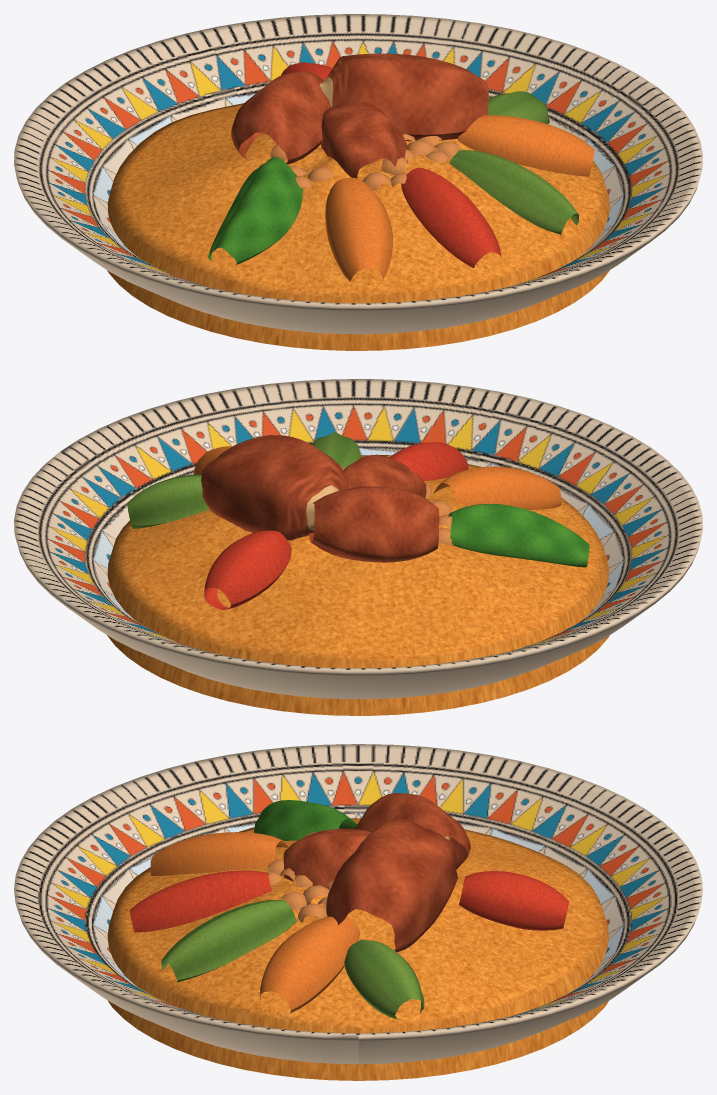
The model's file is Couscous_Plat_090pct.obj.
3 views of the same model, one above another, from view 1: azimuth 30°, elevation 25°; view 2: azimuth 150°, elevation 25°; view 3: azimuth 270°, elevation 25° (orthographic).
Parts seen in each view (by area): view 1: 00_Plate_Tebsi_Ceramic, 01_Couscous_Semolina_Mound, 02_Meat_Lamb_Shank_Main, 03_Meat_Braised_Left, 06_Veg_Green_Pepper_Felfel, 10_Veg_Carrot_Right, 07_Veg_Carrot_FrontLeft, 08_Veg_Pumpkin_Red_Front, 09_Veg_Zucchini_FrontRight, 04_Meat_Braised_Front, 05_Chickpeas_Cluster, 11_Veg_Zucchini_FarRight; view 2: 00_Plate_Tebsi_Ceramic, 01_Couscous_Semolina_Mound, 02_Meat_Lamb_Shank_Main, 03_Meat_Braised_Left, 06_Veg_Green_Pepper_Felfel, 12_Veg_Carrot_TopRight, 07_Veg_Carrot_FrontLeft, 11_Veg_Zucchini_FarRight, 04_Meat_Braised_Front, 08_Veg_Pumpkin_Red_Front, 09_Veg_Zucchini_FrontRight, 05_Chickpeas_Cluster; view 3: 00_Plate_Tebsi_Ceramic, 01_Couscous_Semolina_Mound, 02_Meat_Lamb_Shank_Main, 09_Veg_Zucchini_FrontRight, 10_Veg_Carrot_Right, 08_Veg_Pumpkin_Red_Front, 12_Veg_Carrot_TopRight, 07_Veg_Carrot_FrontLeft, 11_Veg_Zucchini_FarRight, 04_Meat_Braised_Front, 03_Meat_Braised_Left, 06_Veg_Green_Pepper_Felfel (+1 smaller).
Boxes of the visible parts, x1,y1,x2,y2 form: 00_Plate_Tebsi_Ceramic: (14, 14, 702, 334); 01_Couscous_Semolina_Mound: (107, 103, 609, 350); 02_Meat_Lamb_Shank_Main: (319, 53, 488, 141); 03_Meat_Braised_Left: (231, 71, 330, 164); 06_Veg_Green_Pepper_Felfel: (208, 157, 302, 264); 10_Veg_Carrot_Right: (457, 115, 594, 176); 07_Veg_Carrot_FrontLeft: (325, 177, 393, 282); 08_Veg_Pumpkin_Red_Front: (401, 167, 501, 268); 09_Veg_Zucchini_FrontRight: (449, 150, 579, 234); 04_Meat_Braised_Front: (320, 99, 408, 178); 05_Chickpeas_Cluster: (259, 134, 461, 190); 11_Veg_Zucchini_FarRight: (488, 91, 549, 124); 00_Plate_Tebsi_Ceramic: (14, 379, 702, 699); 01_Couscous_Semolina_Mound: (107, 455, 609, 715); 02_Meat_Lamb_Shank_Main: (201, 435, 349, 540); 03_Meat_Braised_Left: (309, 486, 439, 562); 06_Veg_Green_Pepper_Felfel: (448, 504, 589, 567); 12_Veg_Carrot_TopRight: (204, 530, 291, 609); 07_Veg_Carrot_FrontLeft: (433, 466, 561, 509); 11_Veg_Zucchini_FarRight: (127, 474, 209, 528); 04_Meat_Braised_Front: (343, 454, 426, 497); 08_Veg_Pumpkin_Red_Front: (390, 442, 468, 481); 09_Veg_Zucchini_FrontRight: (311, 432, 361, 468); 05_Chickpeas_Cluster: (342, 469, 453, 545); 00_Plate_Tebsi_Ceramic: (14, 744, 702, 1064); 01_Couscous_Semolina_Mound: (107, 818, 608, 1080); 02_Meat_Lamb_Shank_Main: (326, 817, 457, 952); 09_Veg_Zucchini_FrontRight: (161, 899, 296, 982); 10_Veg_Carrot_Right: (259, 916, 360, 1013); 08_Veg_Pumpkin_Red_Front: (129, 870, 271, 932); 12_Veg_Carrot_TopRight: (459, 871, 569, 930); 07_Veg_Carrot_FrontLeft: (150, 832, 288, 875); 11_Veg_Zucchini_FarRight: (344, 939, 424, 1020); 04_Meat_Braised_Front: (283, 828, 371, 888); 03_Meat_Braised_Left: (355, 793, 470, 869); 06_Veg_Green_Pepper_Felfel: (254, 800, 357, 840).
Size of the model in its own units: 0.32 by 0.0925 by 0.32.
Materials: 1 (1 with a texture image).
